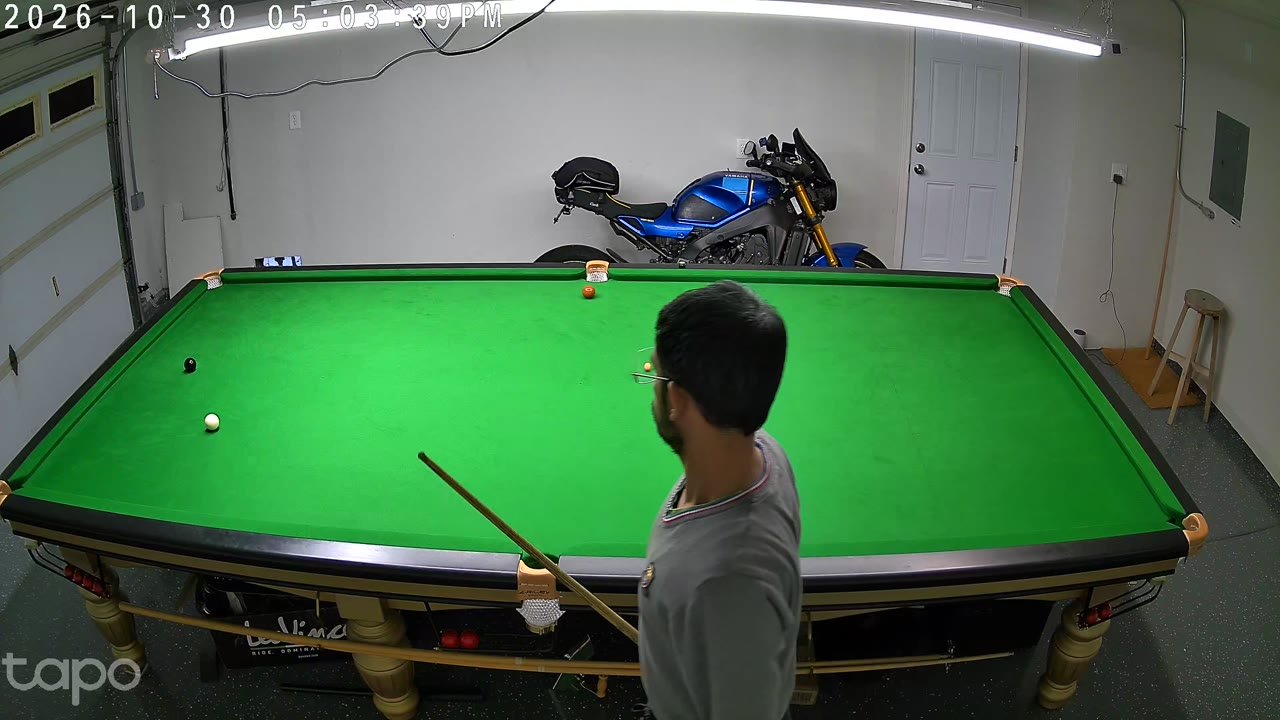black: (184, 356, 196, 376)
brown: (582, 284, 595, 302)
pink: (644, 361, 651, 375)
white: (205, 412, 220, 433)
